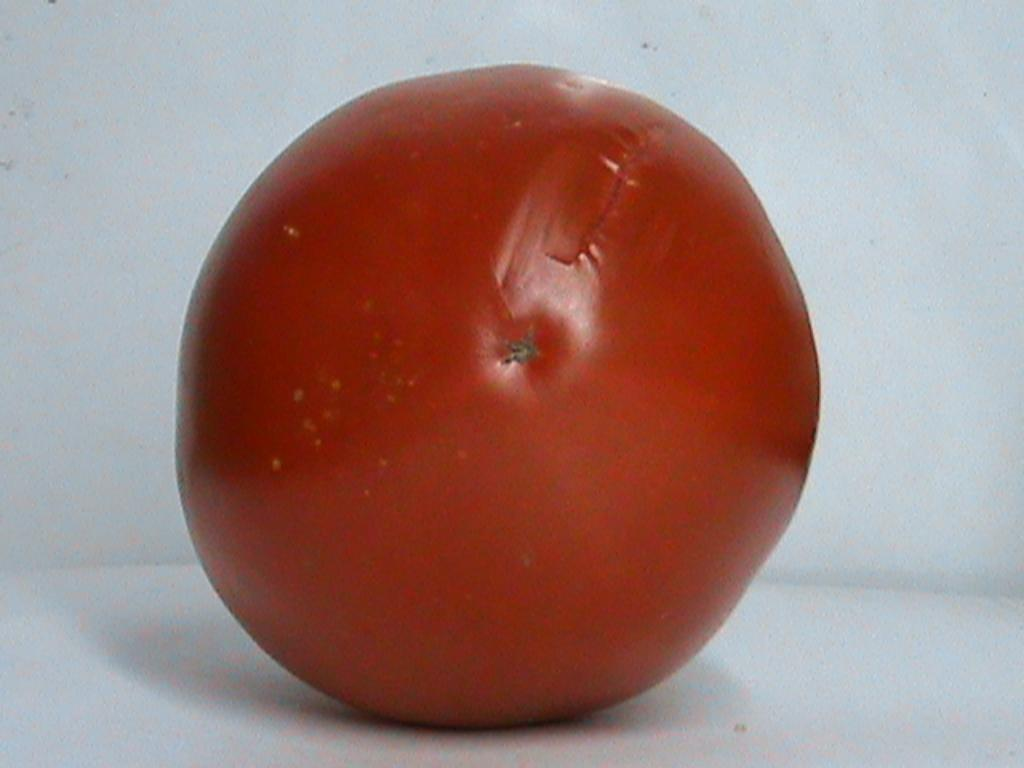surface_damage: (547, 120, 662, 266)
tomato: (176, 67, 818, 725)
